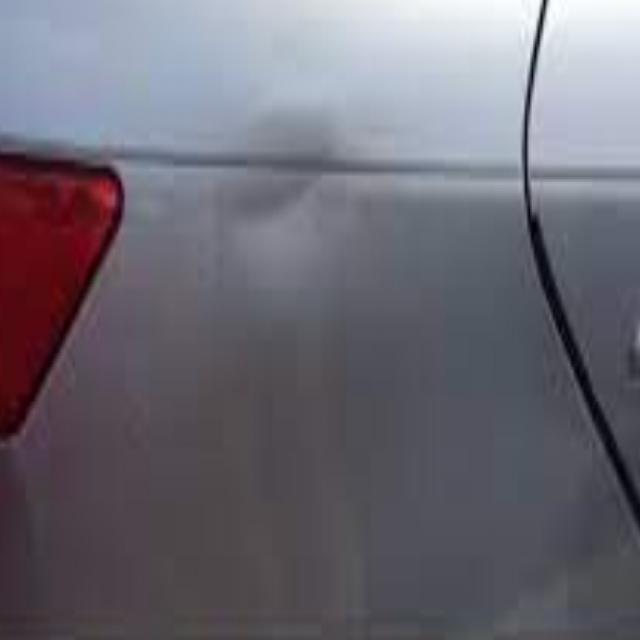dents: (228, 126, 348, 270)
